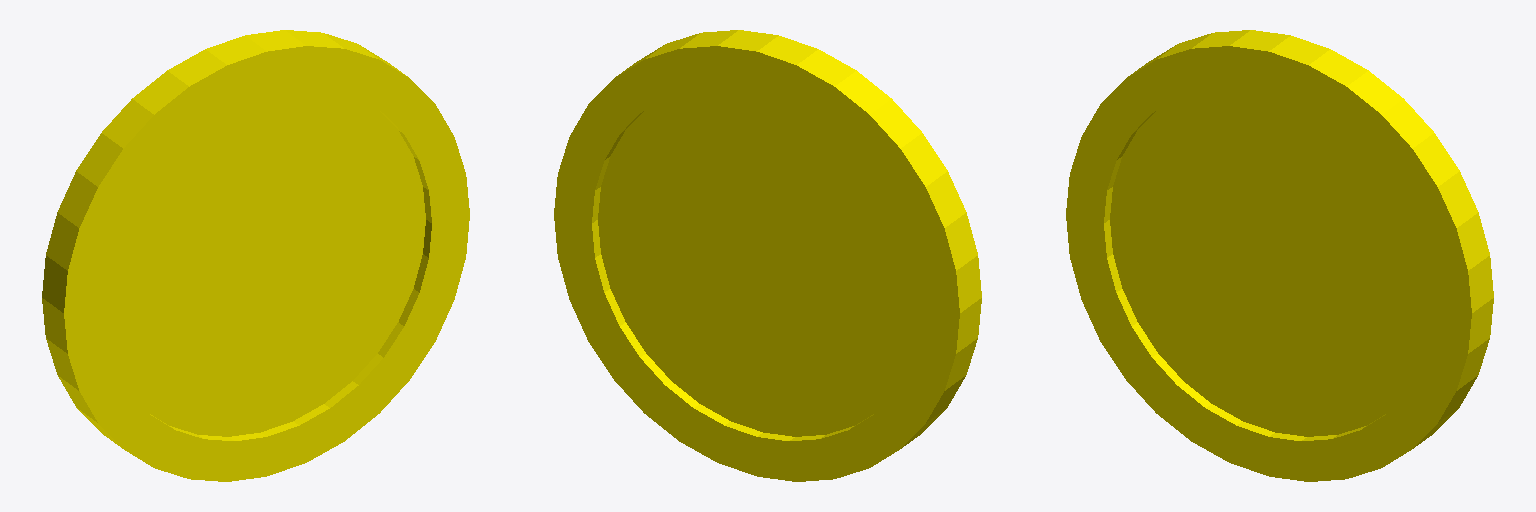
3 views of the same model, side by side, from view 1: azimuth 30°, elevation 25°; view 2: azimuth 150°, elevation 25°; view 3: azimuth 330°, elevation 25° (orthographic).
Parts seen in each view (by area): view 1: COIN_TMP; view 2: COIN_TMP; view 3: COIN_TMP.
Boxes of the visible parts, <box> form: COIN_TMP: <box>42,30,469,481</box>; COIN_TMP: <box>554,30,981,481</box>; COIN_TMP: <box>1066,30,1493,481</box>.
Size of the model in its own units: 0.1578 by 0.1578 by 0.0149.
1 materials, 1 textured.